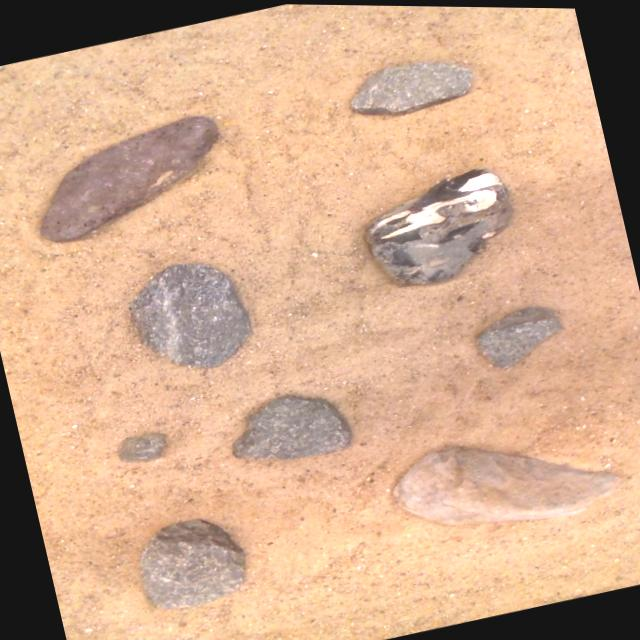rock: (39, 116, 216, 242), (392, 447, 618, 523), (365, 168, 510, 284), (128, 263, 248, 367), (139, 520, 242, 608), (231, 395, 349, 459), (350, 61, 470, 114), (476, 305, 560, 366), (117, 433, 163, 462)
